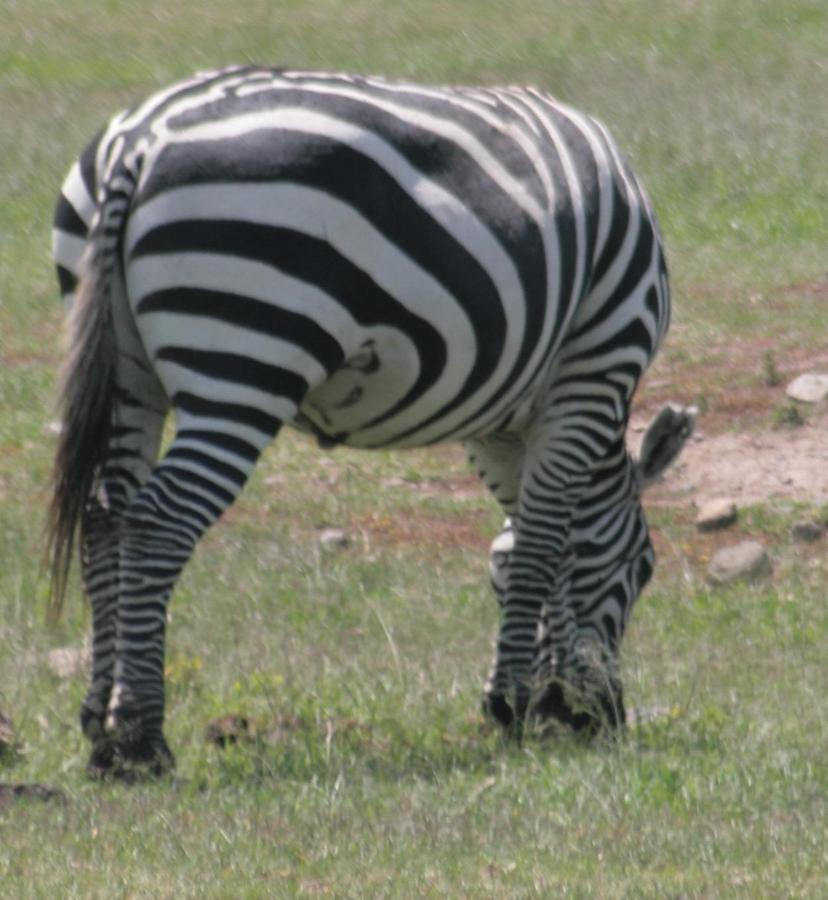zebra_plains: (133, 58, 697, 508)
